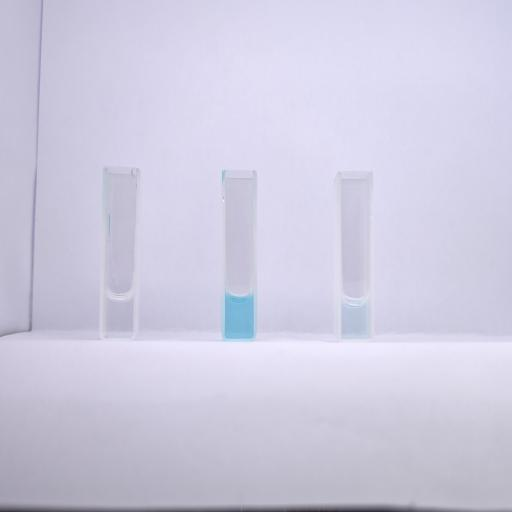cuvette: (97, 163, 142, 343), (335, 168, 377, 345), (220, 166, 260, 344)
liquid: (105, 292, 133, 336), (342, 298, 370, 339), (226, 295, 253, 337)
